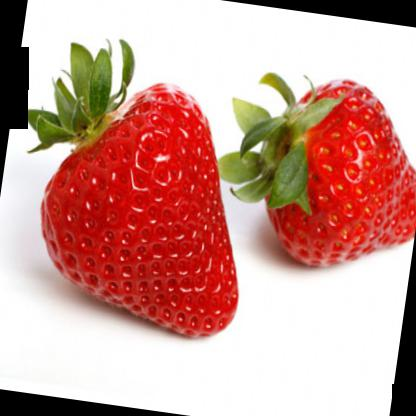strawberry: (2, 36, 270, 343), (216, 62, 415, 292)
